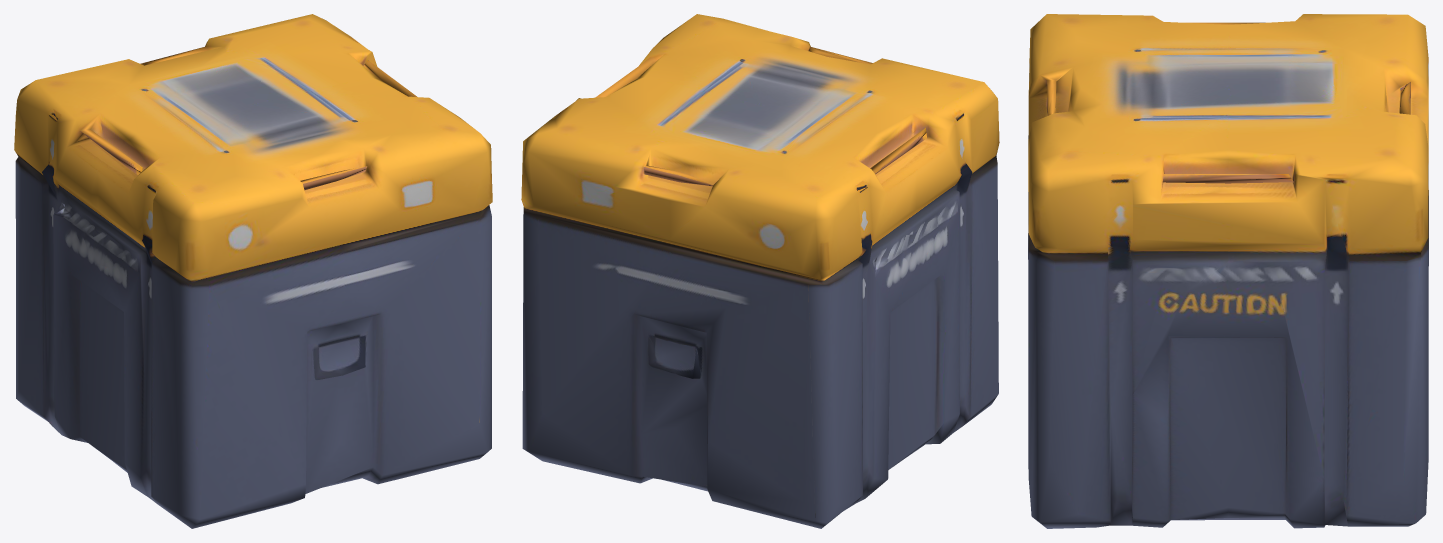
3 views of the same model, side by side, from view 1: azimuth 30°, elevation 25°; view 2: azimuth 150°, elevation 25°; view 3: azimuth 270°, elevation 25° (orthographic). The views are drawn at different scales.
Visible parts, largest first — view 1: tripo_node_70e7744b; view 2: tripo_node_70e7744b; view 3: tripo_node_70e7744b.
Part boxes in pixels (<box>): tripo_node_70e7744b: <box>14,14,492,528</box>; tripo_node_70e7744b: <box>521,14,999,528</box>; tripo_node_70e7744b: <box>1028,14,1428,528</box>.
Size of the model in its own units: 0.9985 by 0.9995 by 0.9835.
Materials: 1 (1 with a texture image).
